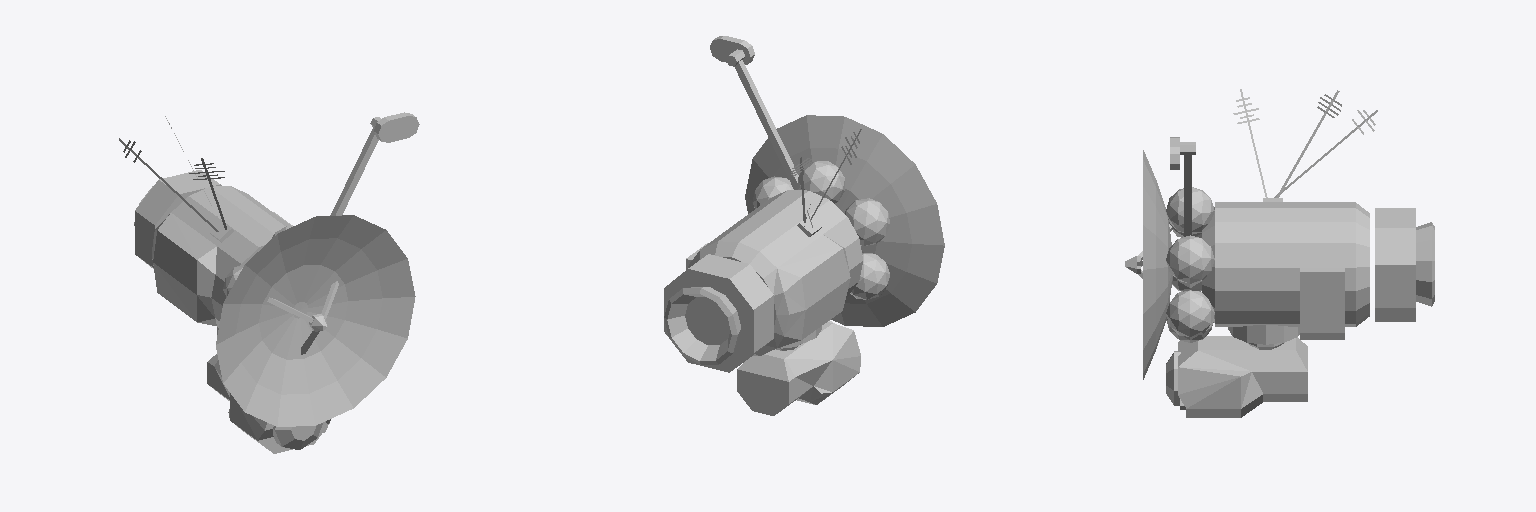
The model's file is beholder_v3.obj.
3 renders of one model, left to right at view 1: azimuth 30°, elevation 25°; view 2: azimuth 150°, elevation 25°; view 3: azimuth 270°, elevation 25°, orthographic.
Parts seen in each view (by area): view 1: Beholder_v3; view 2: Beholder_v3; view 3: Beholder_v3.
Part boxes in pixels (x1,y1,x2,y2): Beholder_v3: (119, 112, 419, 453); Beholder_v3: (664, 36, 944, 415); Beholder_v3: (1125, 89, 1434, 417).
Bounding box in the file's own units: 8.63 × 11.87 × 10.65.